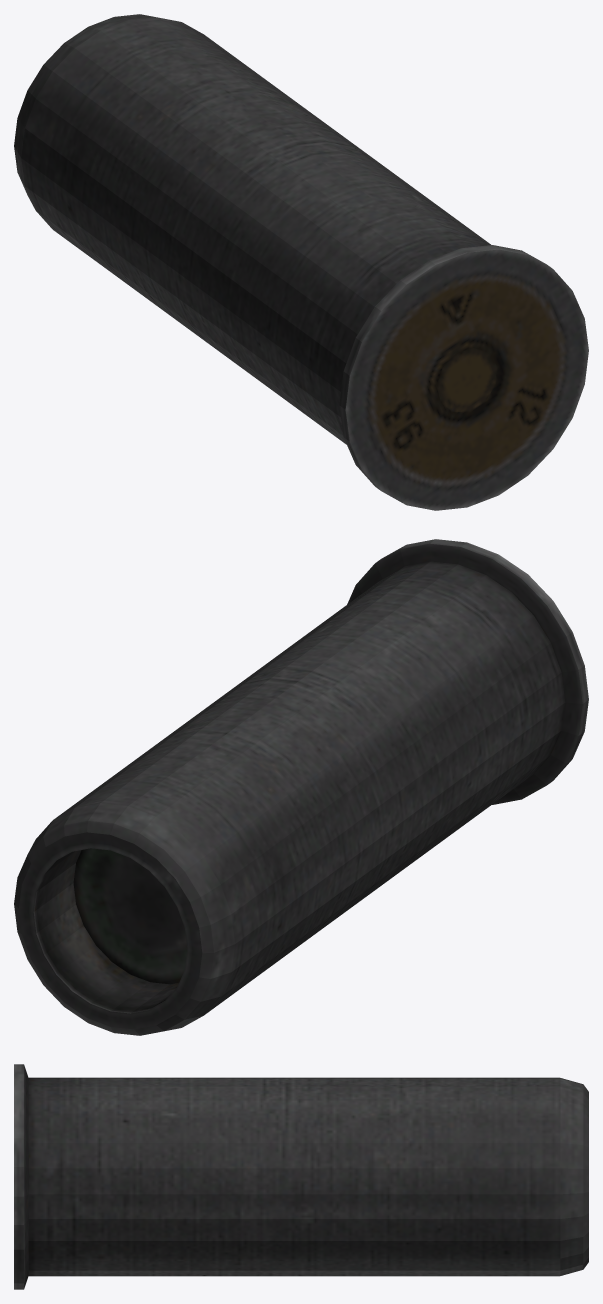
3 views of the same model, one above another, from view 1: azimuth 30°, elevation 25°; view 2: azimuth 150°, elevation 25°; view 3: azimuth 270°, elevation 25° (orthographic). The views are drawn at different scales.
Visible parts, largest first — view 1: TW_5f647f31b6238e5dd066e196_PZ_Import; view 2: TW_5f647f31b6238e5dd066e196_PZ_Import; view 3: TW_5f647f31b6238e5dd066e196_PZ_Import.
Part boxes in pixels (x1,y1,x2,y2): TW_5f647f31b6238e5dd066e196_PZ_Import: (14,14,588,510); TW_5f647f31b6238e5dd066e196_PZ_Import: (14,539,588,1035); TW_5f647f31b6238e5dd066e196_PZ_Import: (14,1064,588,1289).
Bounding box in the file's own units: 0.0171 × 0.0434 × 0.0171.
Materials: 1 (1 with a texture image).
